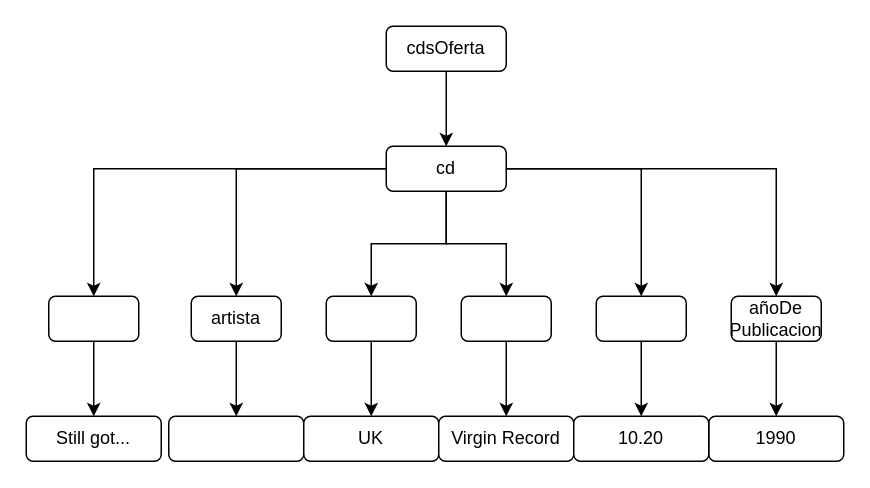
Image size: 870x488. Some labels were removed from this diagram. The box of each missing label's shape, as (x1, y1, x2, y2) in pixels:
compañia Discografica: (460, 295, 551, 341)
Gary Moore: (167, 415, 304, 461)
pais: (325, 295, 416, 341)
precio: (595, 295, 686, 341)
titulo: (47, 295, 139, 341)
